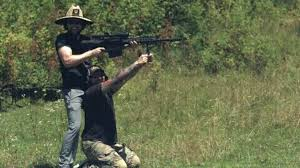Gun: (83, 31, 181, 51)
